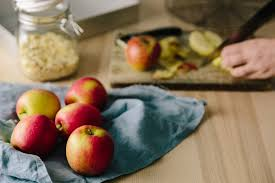apple: (64, 127, 113, 172), (54, 104, 101, 138), (65, 76, 108, 113), (11, 119, 55, 155), (15, 89, 59, 120), (125, 38, 160, 73)
